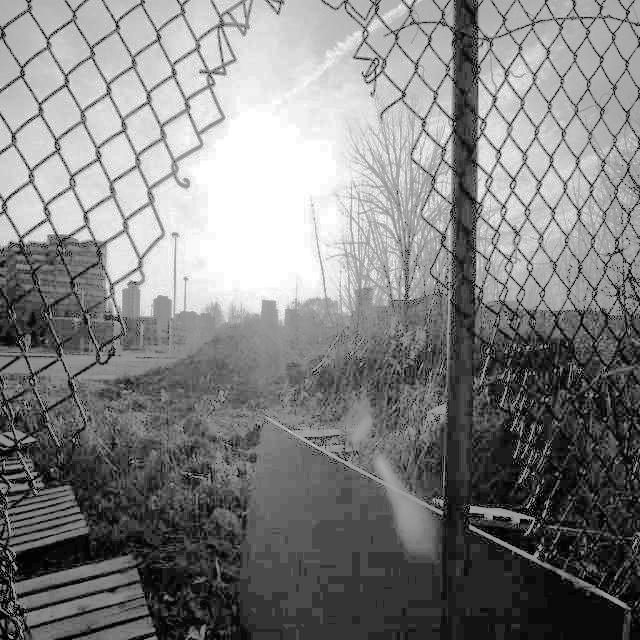anomaly-fence: (2, 0, 475, 640)
